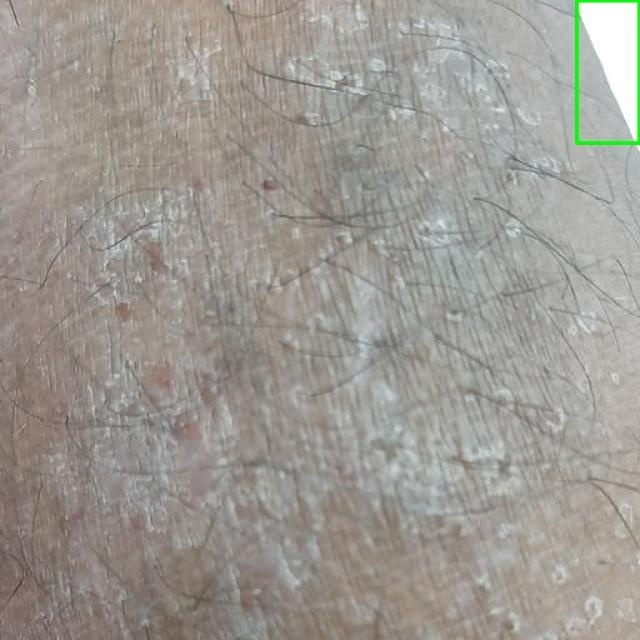Contact Dermatitis: (576, 0, 639, 144)
